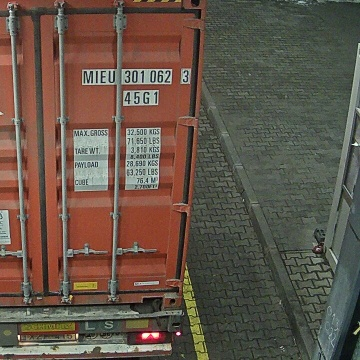serial_id: (83, 70, 189, 83)
